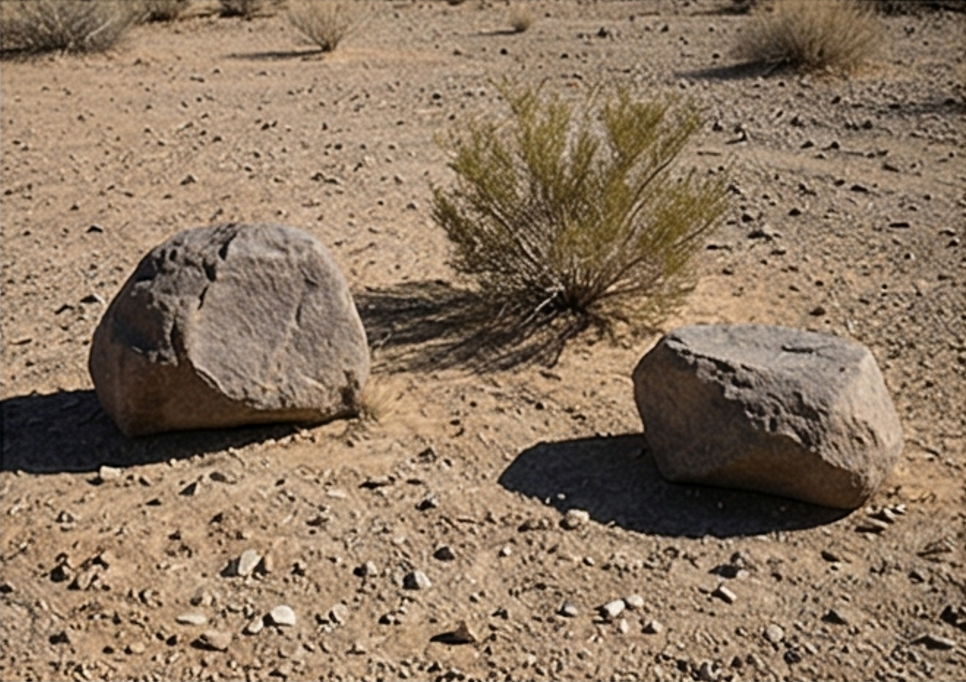rocks: (89, 223, 369, 436), (635, 325, 902, 508)
